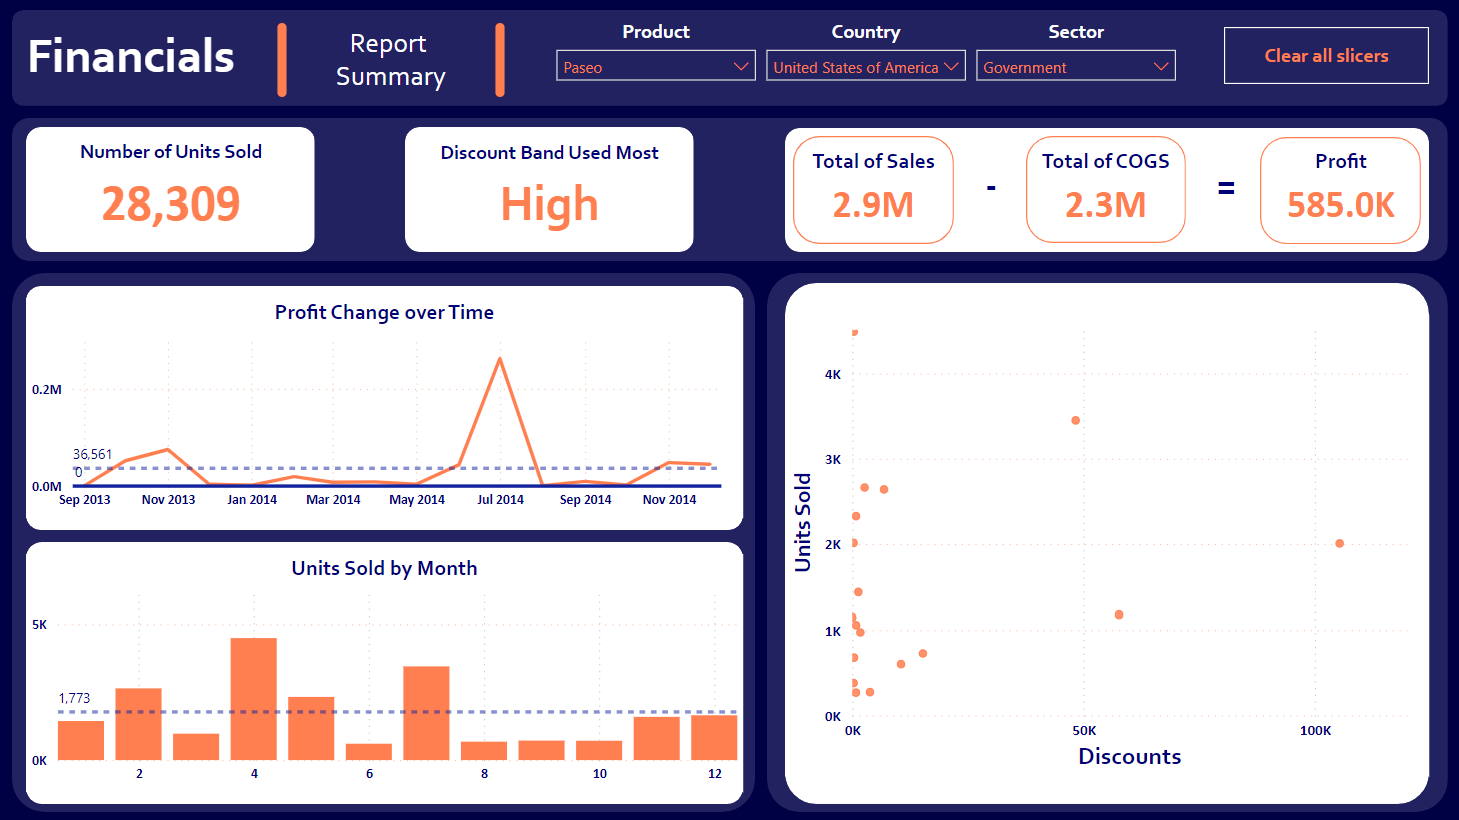

The page's visual inventory and layout, read from the dashboard file:
{"tool":"powerbi","page":{"name":"Report Summary","canvas":[1280,720],"ordinal":0},"visuals":[{"type":"shape","box":[10.5,240.3,651.6,471.8],"z":1000},{"type":"shape","box":[672.6,240.3,597.2,471.8],"z":2000},{"type":"shape","box":[10.5,105.2,1259.3,124.5],"z":3000},{"type":"shape","box":[10.5,10.5,1259.3,84.2],"z":4000},{"type":"shape","box":[688.4,114,564.8,107.9],"z":5000},{"type":"shape","box":[355.2,113.1,253.4,108.7],"z":6000},{"type":"shape","box":[22.8,113.1,253.4,108.7],"z":7000},{"type":"shape","box":[688.4,249.1,564.8,456],"z":8000},{"type":"shape","box":[22.8,476.2,628.8,228.9],"z":9000},{"type":"shape","box":[22.8,251.7,628.8,214],"z":10000},{"type":"slicer","title":"Product","fields":{"Values":["financials.Product"]},"box":[478,18.4,194.7,70.2],"z":11000},{"type":"card","title":"Number of Units Sold","fields":{"Values":["Sum(financials.Units Sold)"]},"box":[35.1,123.7,229.8,86.8],"z":12000},{"type":"lineChart","title":"Profit Change over Time","fields":{"Y":["Sum(financials.Profit)"],"Category":["financials.Date.Variation.Date Hierarchy.Year","financials.Date.Variation.Date Hierarchy.Quarter","financials.Date.Variation.Date Hierarchy.Month","financials.Date.Variation.Date Hierarchy.Day"]},"box":[22.8,262.2,628.8,192.9],"z":13000},{"type":"clusteredColumnChart","title":"Units Sold by Month","fields":{"Category":["financials.Month Number"],"Y":["Avg(financials.Units Sold)"]},"box":[22.8,486.7,628.8,207.8],"z":14000},{"type":"card","title":"Total of Sales","fields":{"Values":["Sum(financials. Sales)"]},"box":[700.7,130.7,130.7,78.1],"z":15000},{"type":"card","title":"Total of COGS","fields":{"Values":["Sum(financials.COGS)"]},"box":[905,130.7,129.8,78.1],"z":16000},{"type":"card","title":"Profit","fields":{"Values":["Sum(financials.Profit)"]},"box":[1111.1,130.7,129.8,78.1],"z":17000},{"type":"card","title":"Discount Band Used Most","fields":{"Values":["financials.Top Discount Band for Card"]},"box":[366.6,124.5,230.6,87.7],"z":18000},{"type":"scatterChart","fields":{"X":["financials.Discounts"],"Y":["financials.Units Sold"]},"box":[688.4,277.1,564.8,404.3],"z":19000},{"type":"textbox","box":[18.4,19.3,210.5,63.1],"z":20000},{"type":"slicer","title":"Country","fields":{"Values":["financials.Country"]},"box":[662.1,18.4,194.7,70.2],"z":21000},{"type":"slicer","title":"Sector","fields":{"Values":["financials.Sector"]},"box":[846.3,18.4,194.7,70.2],"z":22000},{"type":"shape","box":[695.4,121,141.2,93.8],"z":23000},{"type":"textbox","box":[849.8,139.4,38.6,57],"z":24000},{"type":"textbox","box":[1054.1,139.4,42.1,57],"z":25000},{"type":"shape","box":[899.8,121,140.3,93],"z":26000},{"type":"shape","box":[1105,121.9,141.2,93],"z":27000},{"type":"actionButton","box":[1073.4,25.4,179.8,50],"z":28000},{"type":"shape","box":[210.5,21.9,73.7,64.9],"z":29000},{"type":"shape","box":[401.7,21.9,73.7,64.9],"z":30000},{"type":"textbox","box":[247.3,19.3,191.2,70.2],"z":31000}]}

Visuals, with their boxes in screenshot pixels (x1, y1, x2, y2), scaled from the page's 1280x720 canvas onto the 1459x820 screenshot:
shape: {"left": 12, "top": 274, "right": 755, "bottom": 811}
shape: {"left": 767, "top": 274, "right": 1447, "bottom": 811}
shape: {"left": 12, "top": 120, "right": 1447, "bottom": 262}
shape: {"left": 12, "top": 12, "right": 1447, "bottom": 108}
shape: {"left": 785, "top": 130, "right": 1428, "bottom": 253}
shape: {"left": 405, "top": 129, "right": 694, "bottom": 253}
shape: {"left": 26, "top": 129, "right": 315, "bottom": 253}
shape: {"left": 785, "top": 284, "right": 1428, "bottom": 803}
shape: {"left": 26, "top": 542, "right": 743, "bottom": 803}
shape: {"left": 26, "top": 287, "right": 743, "bottom": 530}
"Product" slicer: {"left": 545, "top": 21, "right": 767, "bottom": 101}
"Number of Units Sold" card: {"left": 40, "top": 141, "right": 302, "bottom": 240}
"Profit Change over Time" lineChart: {"left": 26, "top": 299, "right": 743, "bottom": 518}
"Units Sold by Month" clusteredColumnChart: {"left": 26, "top": 554, "right": 743, "bottom": 791}
"Total of Sales" card: {"left": 799, "top": 149, "right": 948, "bottom": 238}
"Total of COGS" card: {"left": 1032, "top": 149, "right": 1180, "bottom": 238}
"Profit" card: {"left": 1266, "top": 149, "right": 1414, "bottom": 238}
"Discount Band Used Most" card: {"left": 418, "top": 142, "right": 681, "bottom": 242}
scatterChart - financials.Discounts x financials.Units Sold: {"left": 785, "top": 316, "right": 1428, "bottom": 776}
textbox: {"left": 21, "top": 22, "right": 261, "bottom": 94}
"Country" slicer: {"left": 755, "top": 21, "right": 977, "bottom": 101}
"Sector" slicer: {"left": 965, "top": 21, "right": 1187, "bottom": 101}
shape: {"left": 793, "top": 138, "right": 954, "bottom": 245}
textbox: {"left": 969, "top": 159, "right": 1013, "bottom": 224}
textbox: {"left": 1202, "top": 159, "right": 1249, "bottom": 224}
shape: {"left": 1026, "top": 138, "right": 1186, "bottom": 244}
shape: {"left": 1260, "top": 139, "right": 1420, "bottom": 245}
actionButton: {"left": 1224, "top": 29, "right": 1428, "bottom": 86}
shape: {"left": 240, "top": 25, "right": 324, "bottom": 99}
shape: {"left": 458, "top": 25, "right": 542, "bottom": 99}
textbox: {"left": 282, "top": 22, "right": 500, "bottom": 102}
